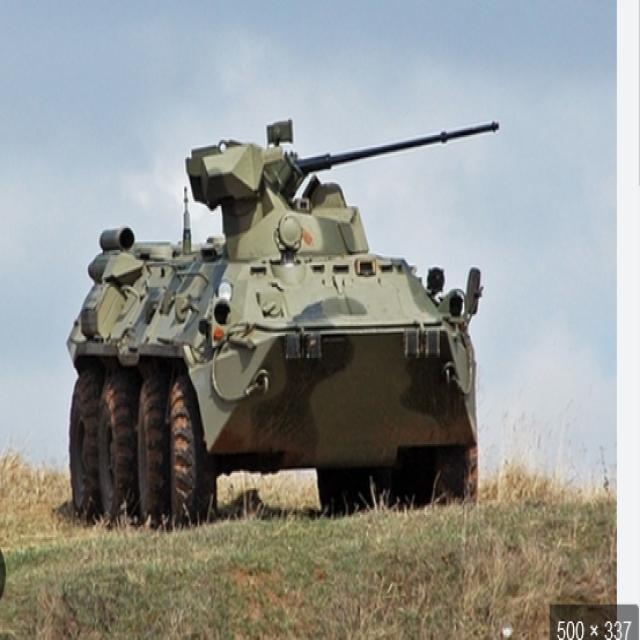MIL_APC: (52, 164, 506, 523)
